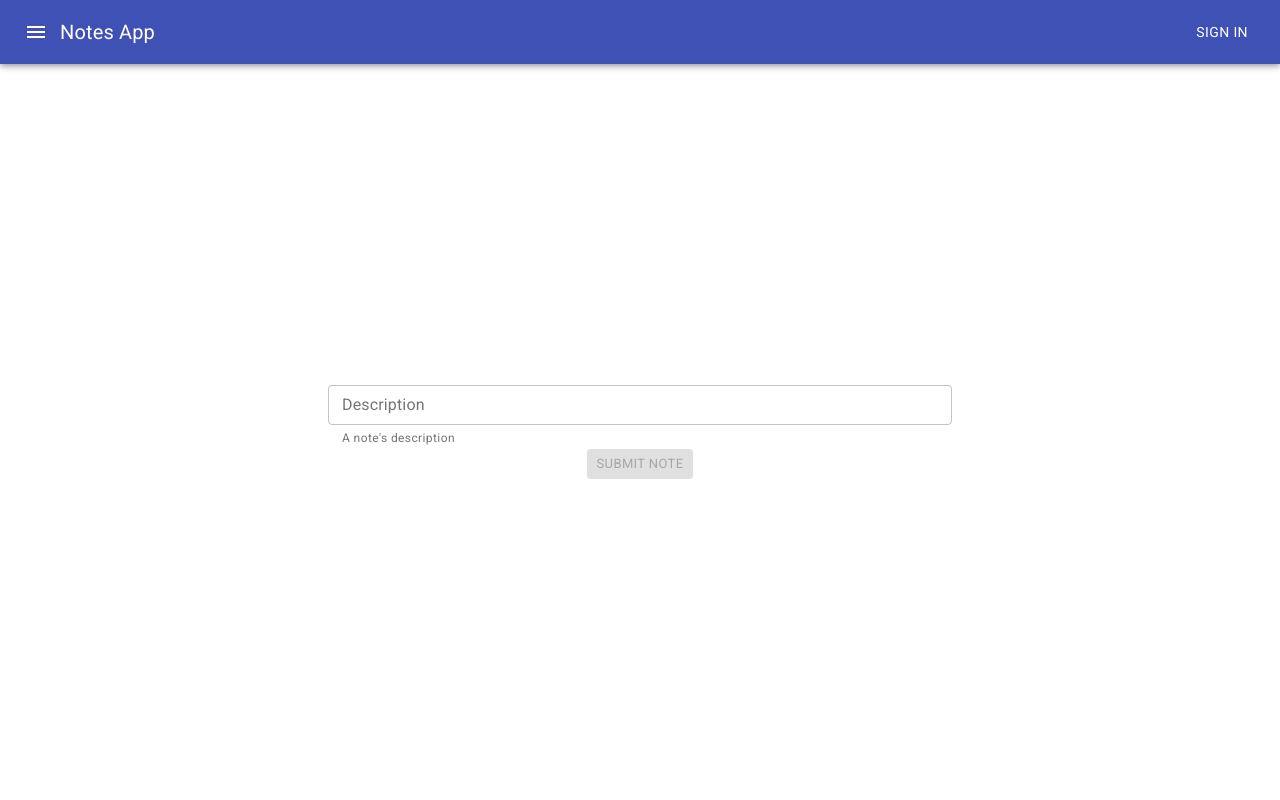
Test: Menu e2e test › should have a new note menu
Step 1. Click the button with test id "menu-toggler" → (36, 32), box [12,8,60,56]
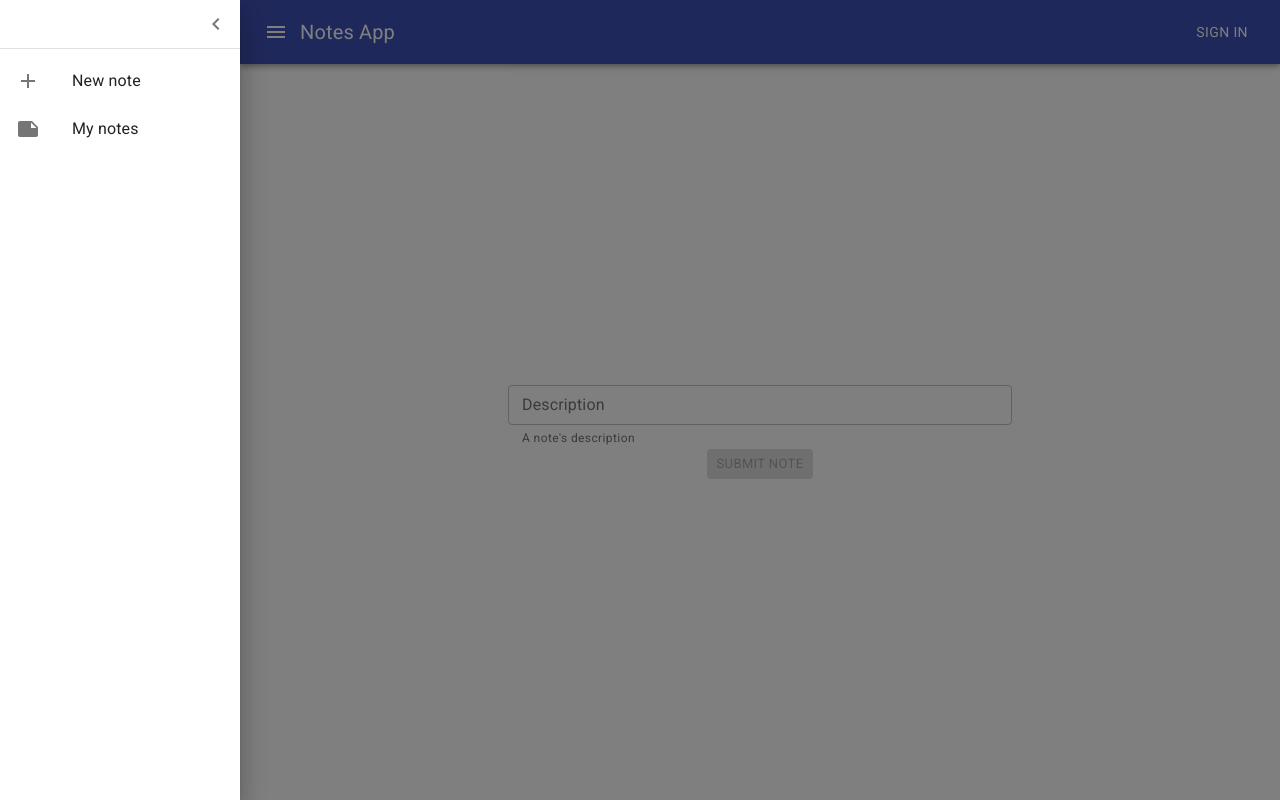
Now the button to "/home" is shown, box [16,69,141,93]
